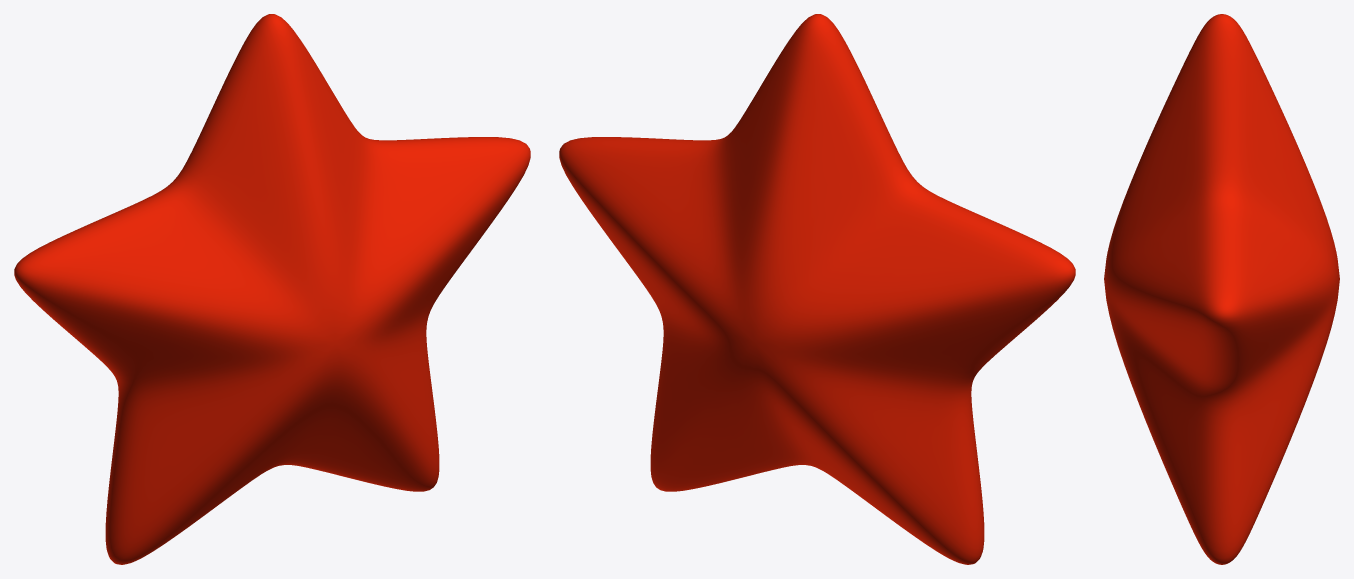
The model's file is star.glb.
The picture shows the model from 3 angles, left to right: view 1: azimuth 30°, elevation 25°; view 2: azimuth 150°, elevation 25°; view 3: azimuth 270°, elevation 25°; orthographic projection. The views are drawn at different scales.
Parts seen in each view (by area): view 1: Star; view 2: Star; view 3: Star.
Part boxes in pixels (x1,y1,x2,y2): Star: (14,14,530,564); Star: (559,14,1075,564); Star: (1104,14,1339,564).
Bounding box in the file's own units: 1.98 × 1.89 × 0.841.
